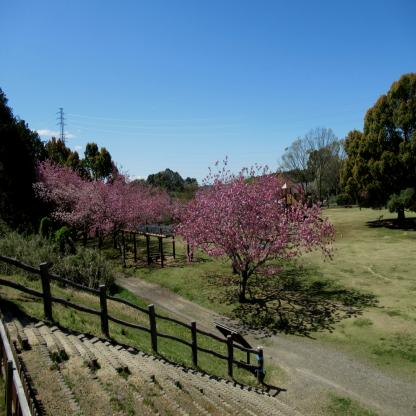YaeSakura: (176, 152, 344, 301), (108, 162, 178, 250), (30, 155, 76, 240), (103, 162, 121, 238), (86, 178, 106, 240), (74, 172, 91, 237)
